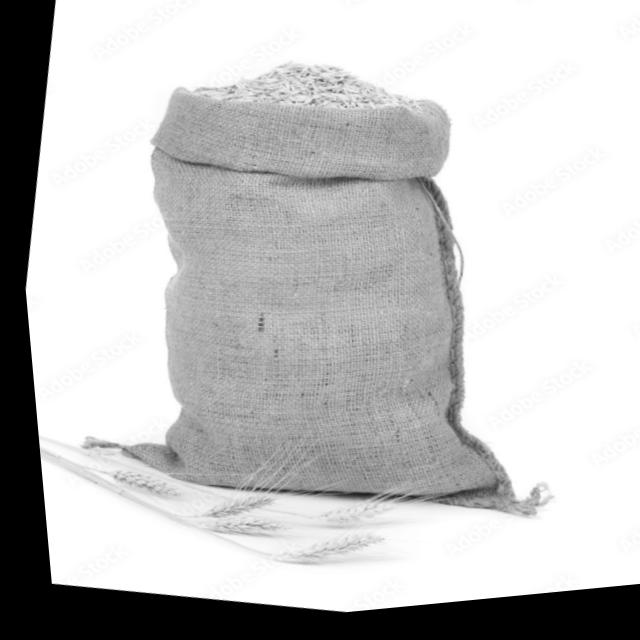sack: (42, 38, 614, 563)
